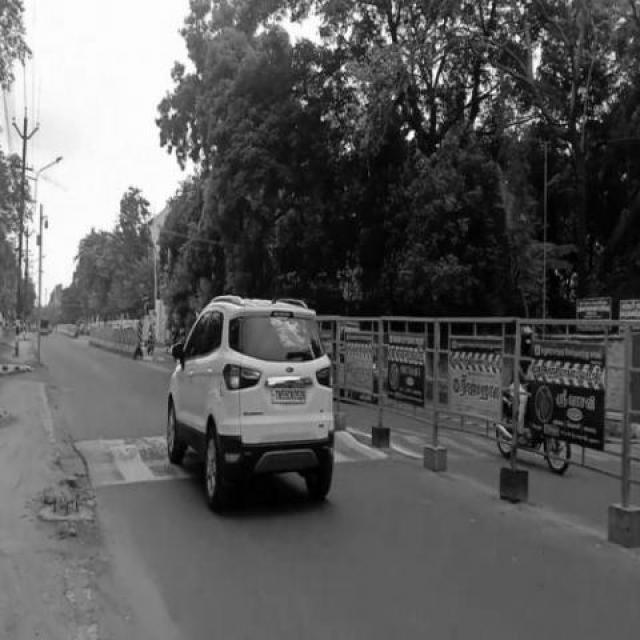Speed Bump: (73, 434, 167, 489), (333, 430, 372, 466), (390, 426, 425, 460), (446, 432, 488, 459)
